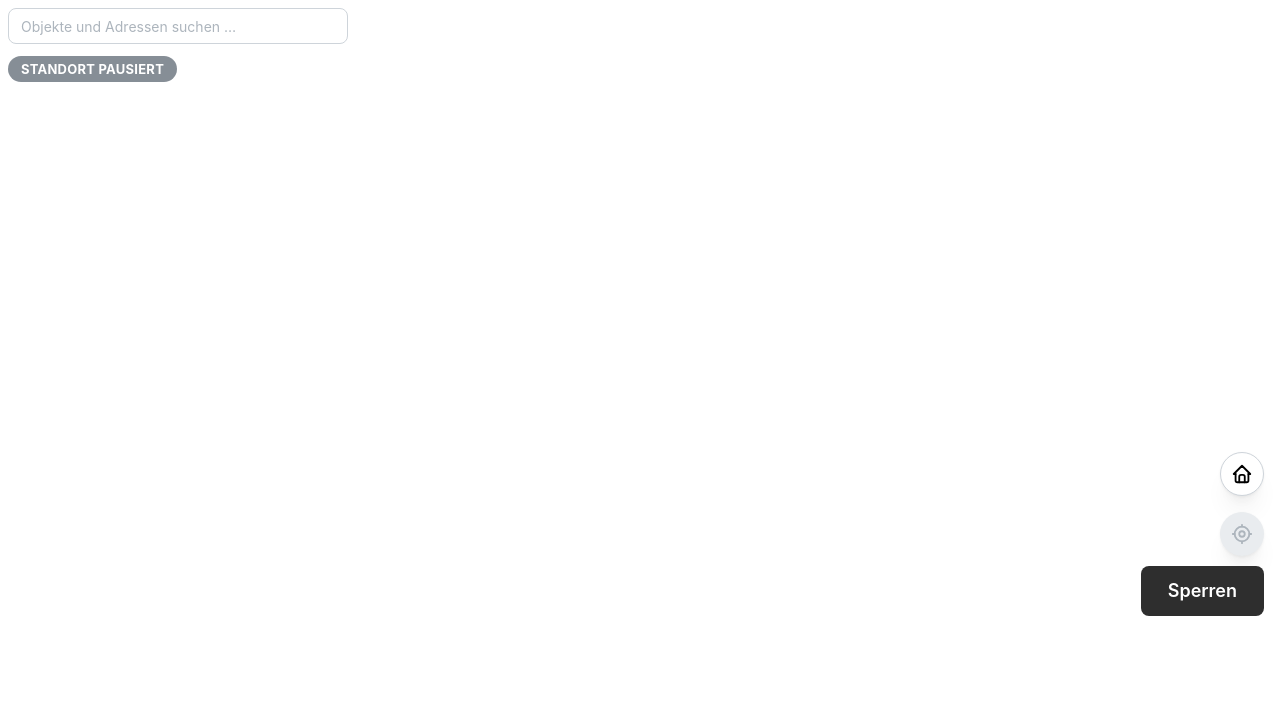
Test: DeviceView › searches addresses through its token route
Type "hamburg" into the field labelled "suche".
click(178, 26); type("hamburg")  # box [8,8,348,44]
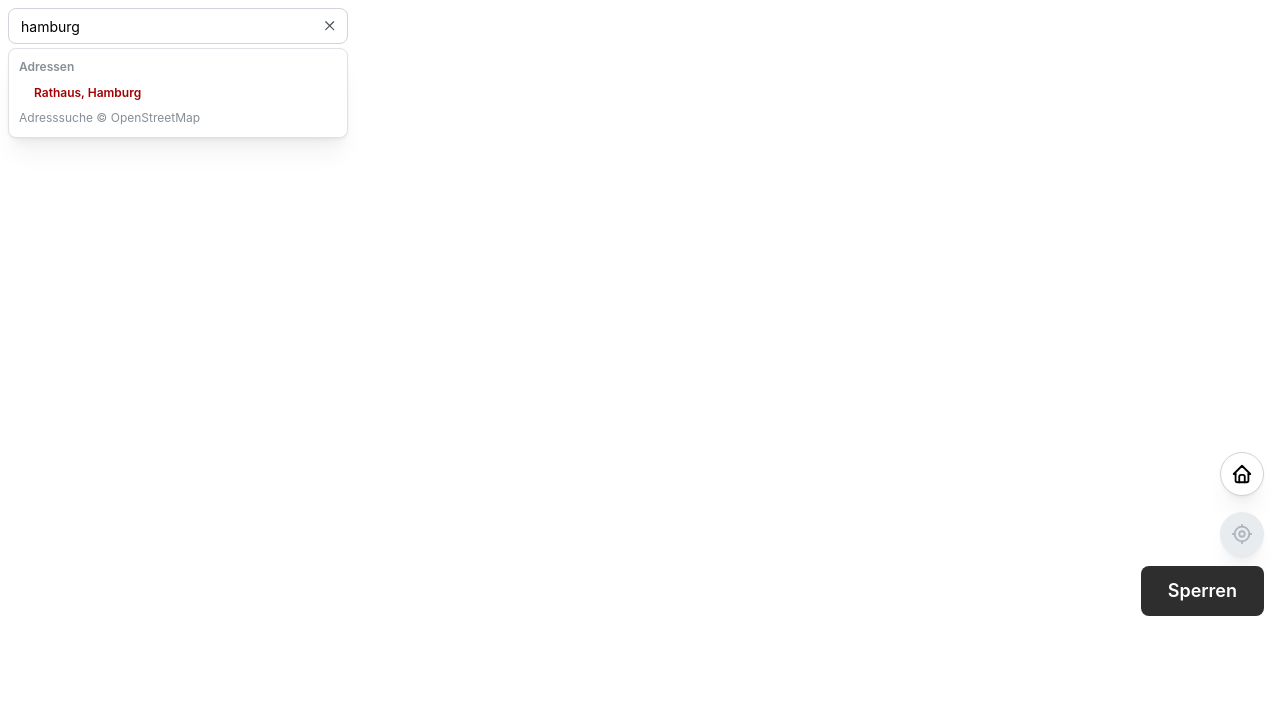
Expected: the button "Rathaus, Hamburg" is shown, [19,78,337,108]
